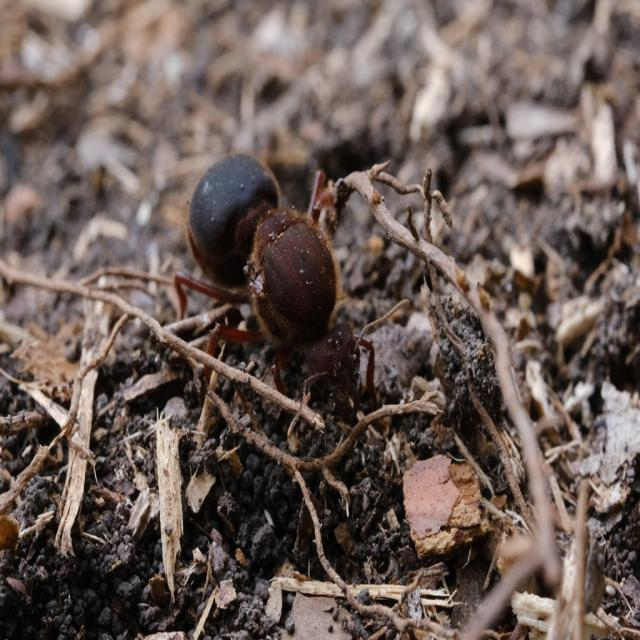Alive-Female-Dealate: (173, 152, 411, 438)
